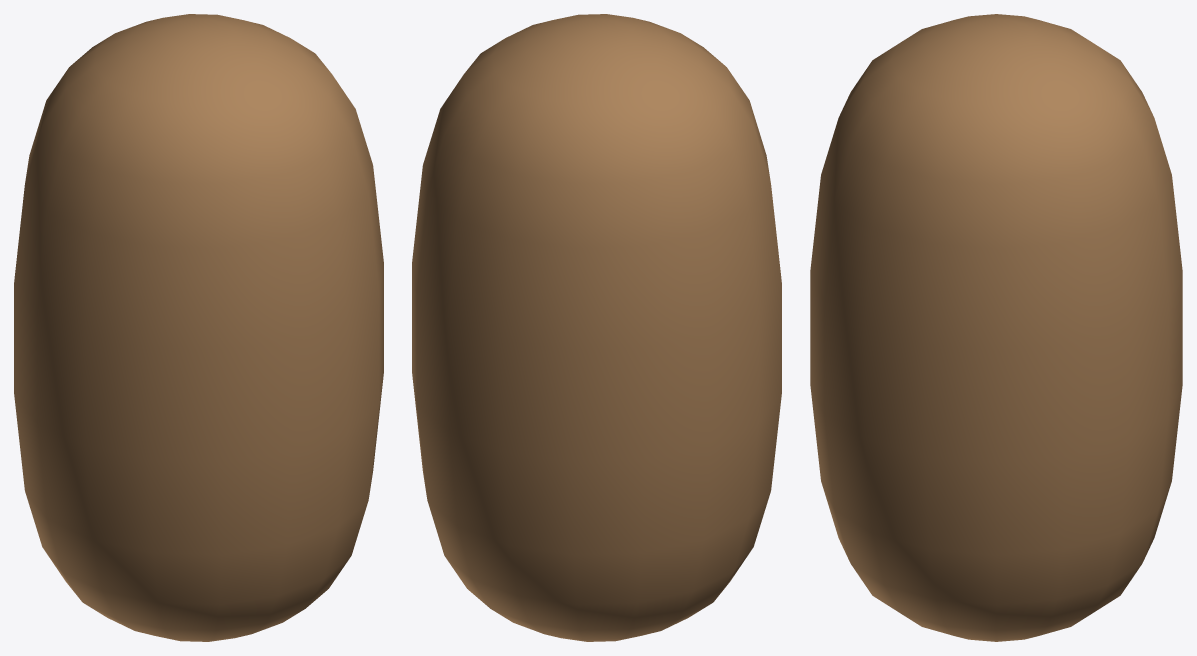
File: CRP_final_anim.glb
3 renders of one model, left to right at view 1: azimuth 30°, elevation 25°; view 2: azimuth 150°, elevation 25°; view 3: azimuth 270°, elevation 25°, orthographic.
Parts seen in each view (by area): view 1: Sphere.002; view 2: Sphere.002; view 3: Sphere.002.
Boxes of the visible parts, x1,y1,x2,y2 form: Sphere.002: (14,14,383,641); Sphere.002: (412,14,781,641); Sphere.002: (810,14,1182,641).
Size of what is drawn, in the model's own units: 0.2942 by 0.5165 by 0.2942.
